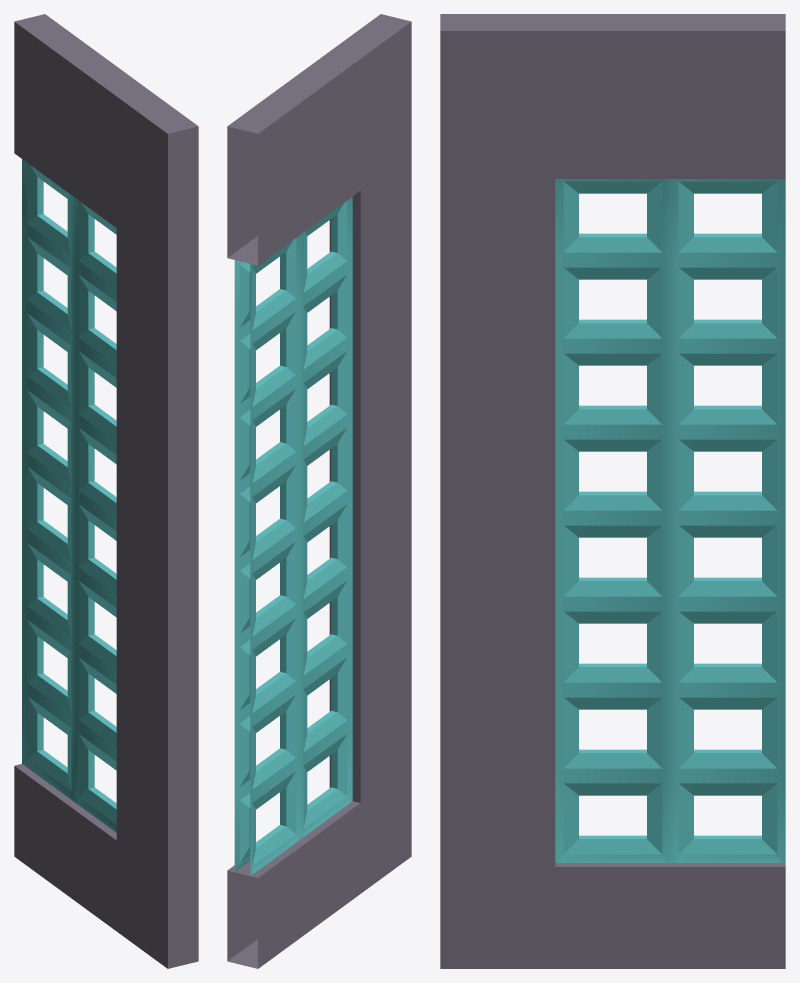
File: EM_114_window_fence_border.glb
3 views of the same model, side by side, from view 1: azimuth 30°, elevation 25°; view 2: azimuth 150°, elevation 25°; view 3: azimuth 270°, elevation 25° (orthographic). The views are drawn at different scales.
Parts seen in each view (by area): view 1: wall_corner, fence; view 2: wall_corner, fence; view 3: wall_corner, fence.
Part boxes in pixels (box(x1,y1,x2,y2)): wall_corner: box(14, 14, 198, 968); fence: box(22, 159, 116, 832); wall_corner: box(227, 14, 411, 968); fence: box(234, 197, 352, 875); wall_corner: box(440, 14, 785, 968); fence: box(555, 179, 785, 862).
Bounding box in the file's own units: 0.0869 × 2.25 × 0.75.
